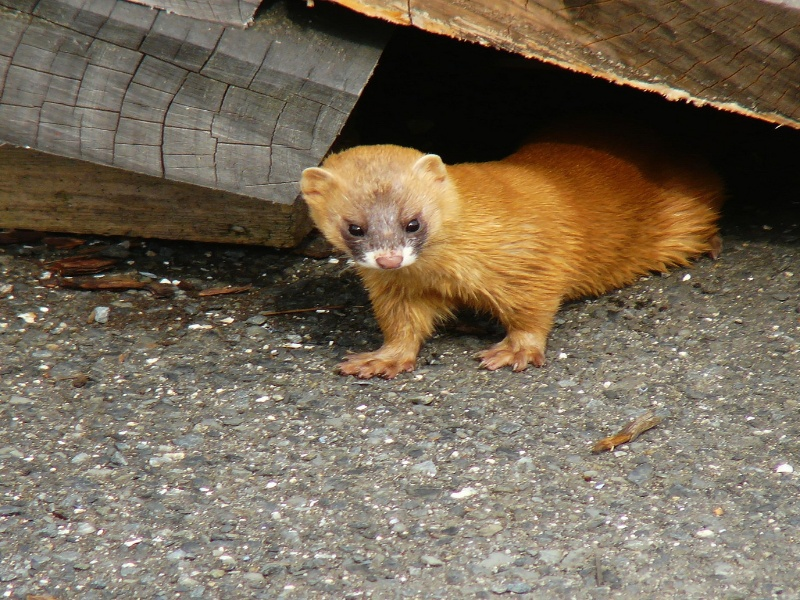minkish: (294, 132, 735, 379)
